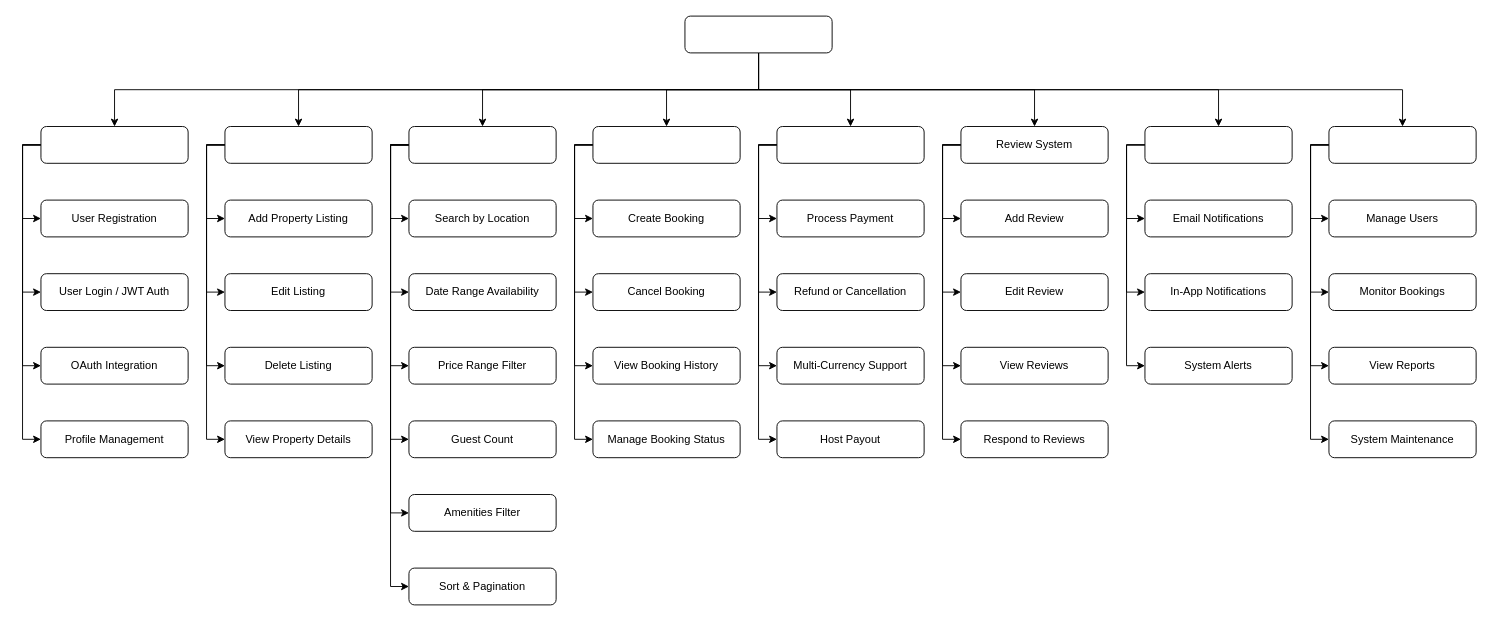
Some shapes in this 1492 by 621 pixel diagram are drawn without their labels. The shapes that lost their labels are listed below. From the top down, each one's centre as x and y in pixels, then its label:
At point 758,34: "Airbnb Backend System".
At point 114,144: "User Management".
At point 298,144: "Property Management".
At point 482,144: "Search and Filtering".
At point 666,144: "Booking System".
At point 850,144: "Payment Integration".
At point 1218,144: "Notification System".
At point 1402,144: "Admin Dashboard".
